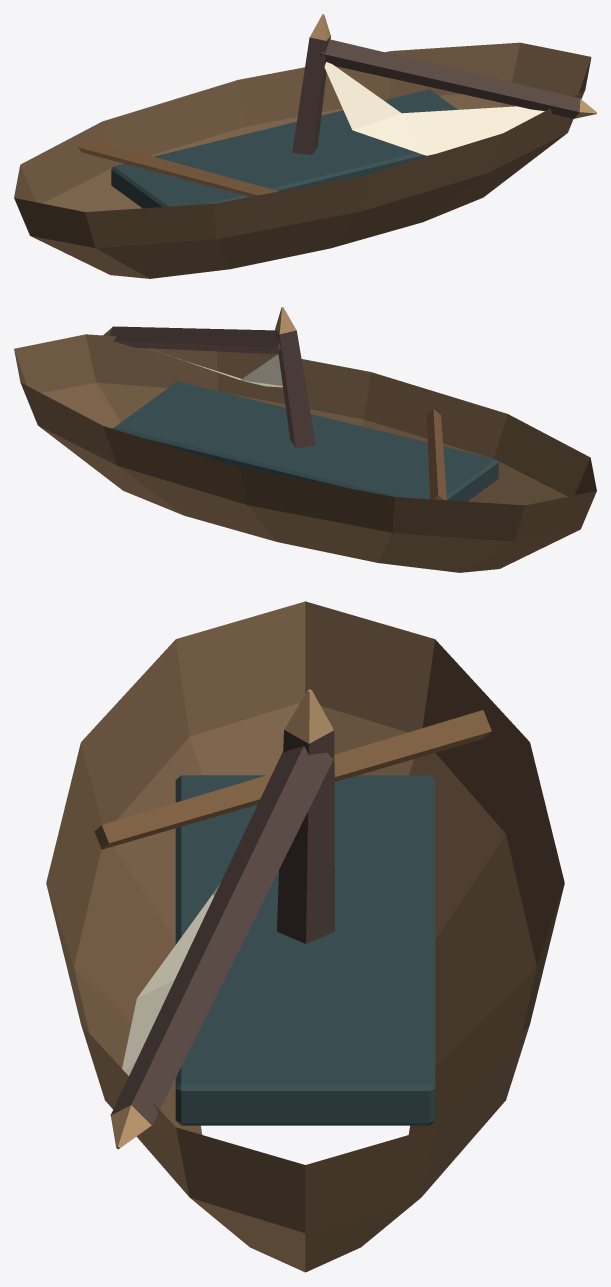
Rendered from ns-pillaged-fishing-boat.glb.
3 views of the same model, one above another, from view 1: azimuth 30°, elevation 25°; view 2: azimuth 150°, elevation 25°; view 3: azimuth 270°, elevation 25° (orthographic). The views are drawn at different scales.
Visible parts, largest first — view 1: Clinker hull; view 2: Clinker hull; view 3: Clinker hull.
Boxes of the visible parts, x1,y1,x2,y2 form: Clinker hull: (14, 14, 596, 278); Clinker hull: (14, 307, 596, 572); Clinker hull: (46, 601, 564, 1272).
Bounding box in the file's own units: 0.72 × 0.2475 × 0.28.
